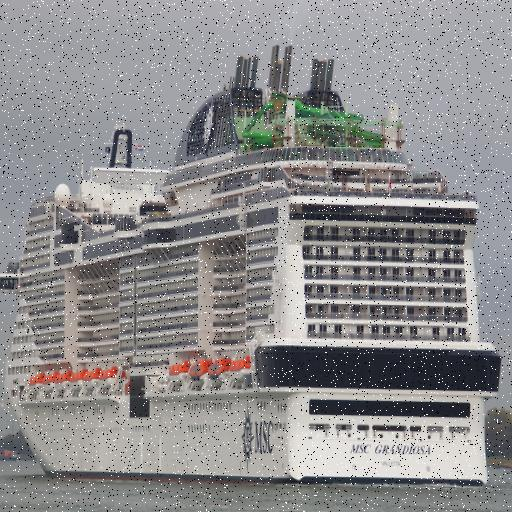cruises: (1, 41, 507, 490)
